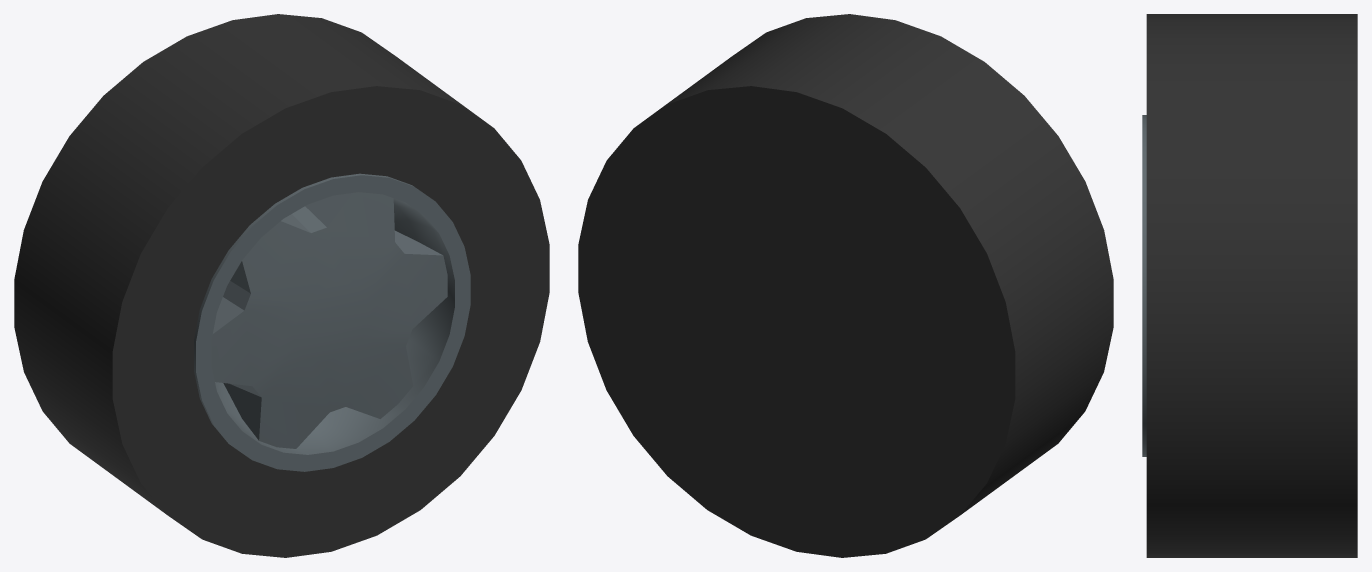
Rendered from Wheel_FR.obj.
The picture shows the model from 3 angles, left to right: view 1: azimuth 30°, elevation 25°; view 2: azimuth 150°, elevation 25°; view 3: azimuth 270°, elevation 25°; orthographic projection. The views are drawn at different scales.
Visible parts, largest first — view 1: wheel_fr; view 2: wheel_fr; view 3: wheel_fr.
Boxes of the visible parts, <box> form: wheel_fr: <box>14,14,549,557</box>; wheel_fr: <box>578,14,1113,557</box>; wheel_fr: <box>1142,14,1357,557</box>.
Bounding box in the file's own units: 1.4 × 1.41 × 0.5582.
